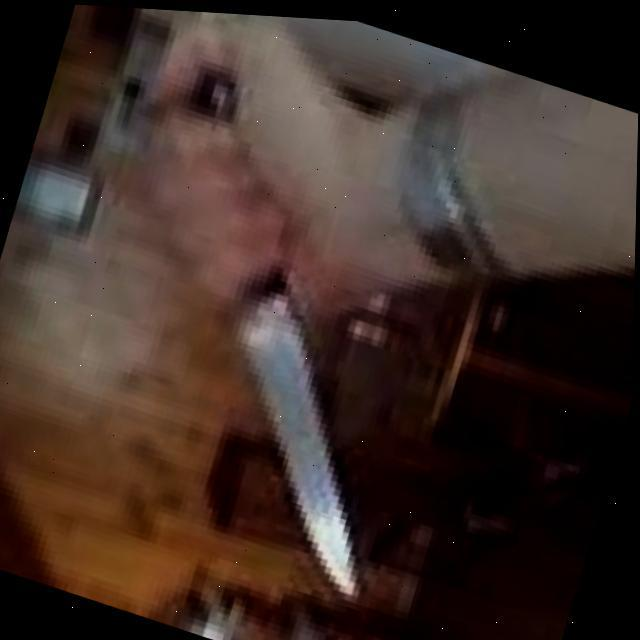knife: (67, 65, 491, 604)
